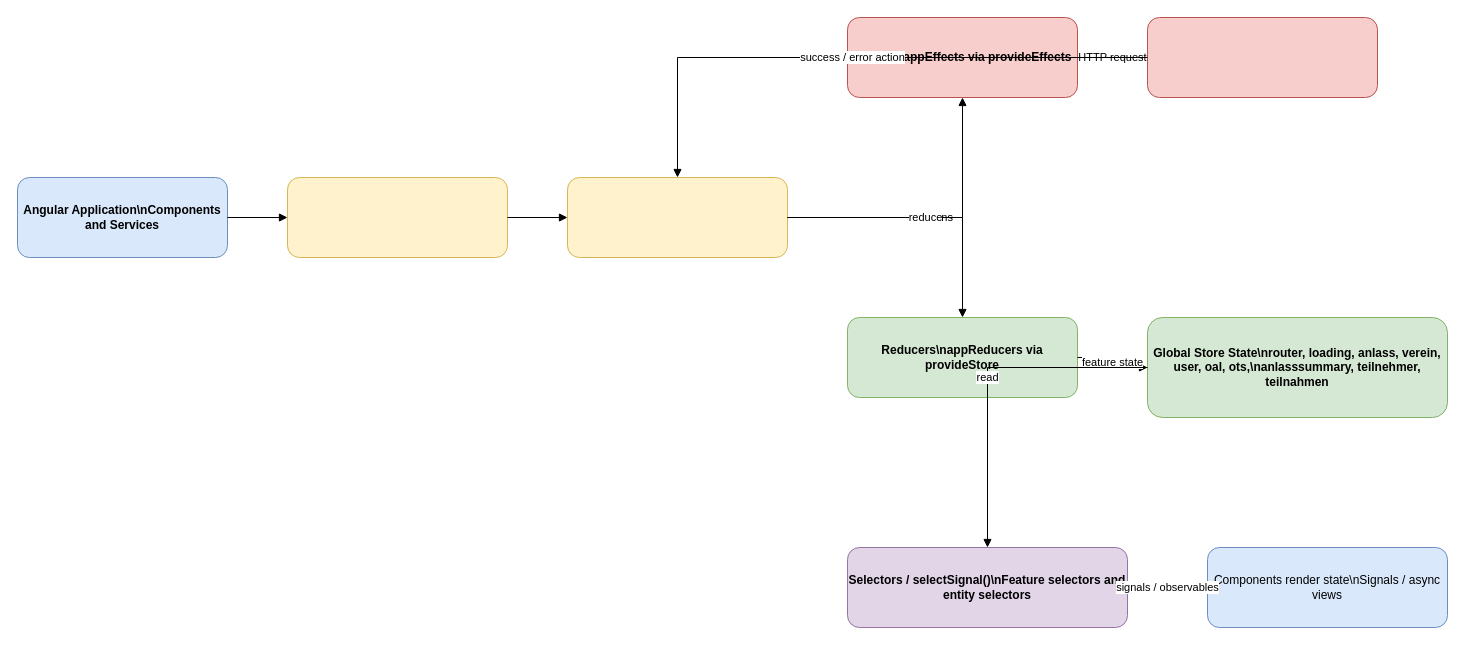
The diagram is 1465 pixels wide and 645 high, and some of its shapes have lost their labels. Here are the shapes that lost their labels. From the top down, the box of each, then its label:
(1146, 16, 1378, 98): API / Caching Services\nHTTP side effects
(286, 176, 508, 258): Store.dispatch(action)\nUser interactions
(566, 176, 788, 258): Actions\ncreateActionGroup per feature
